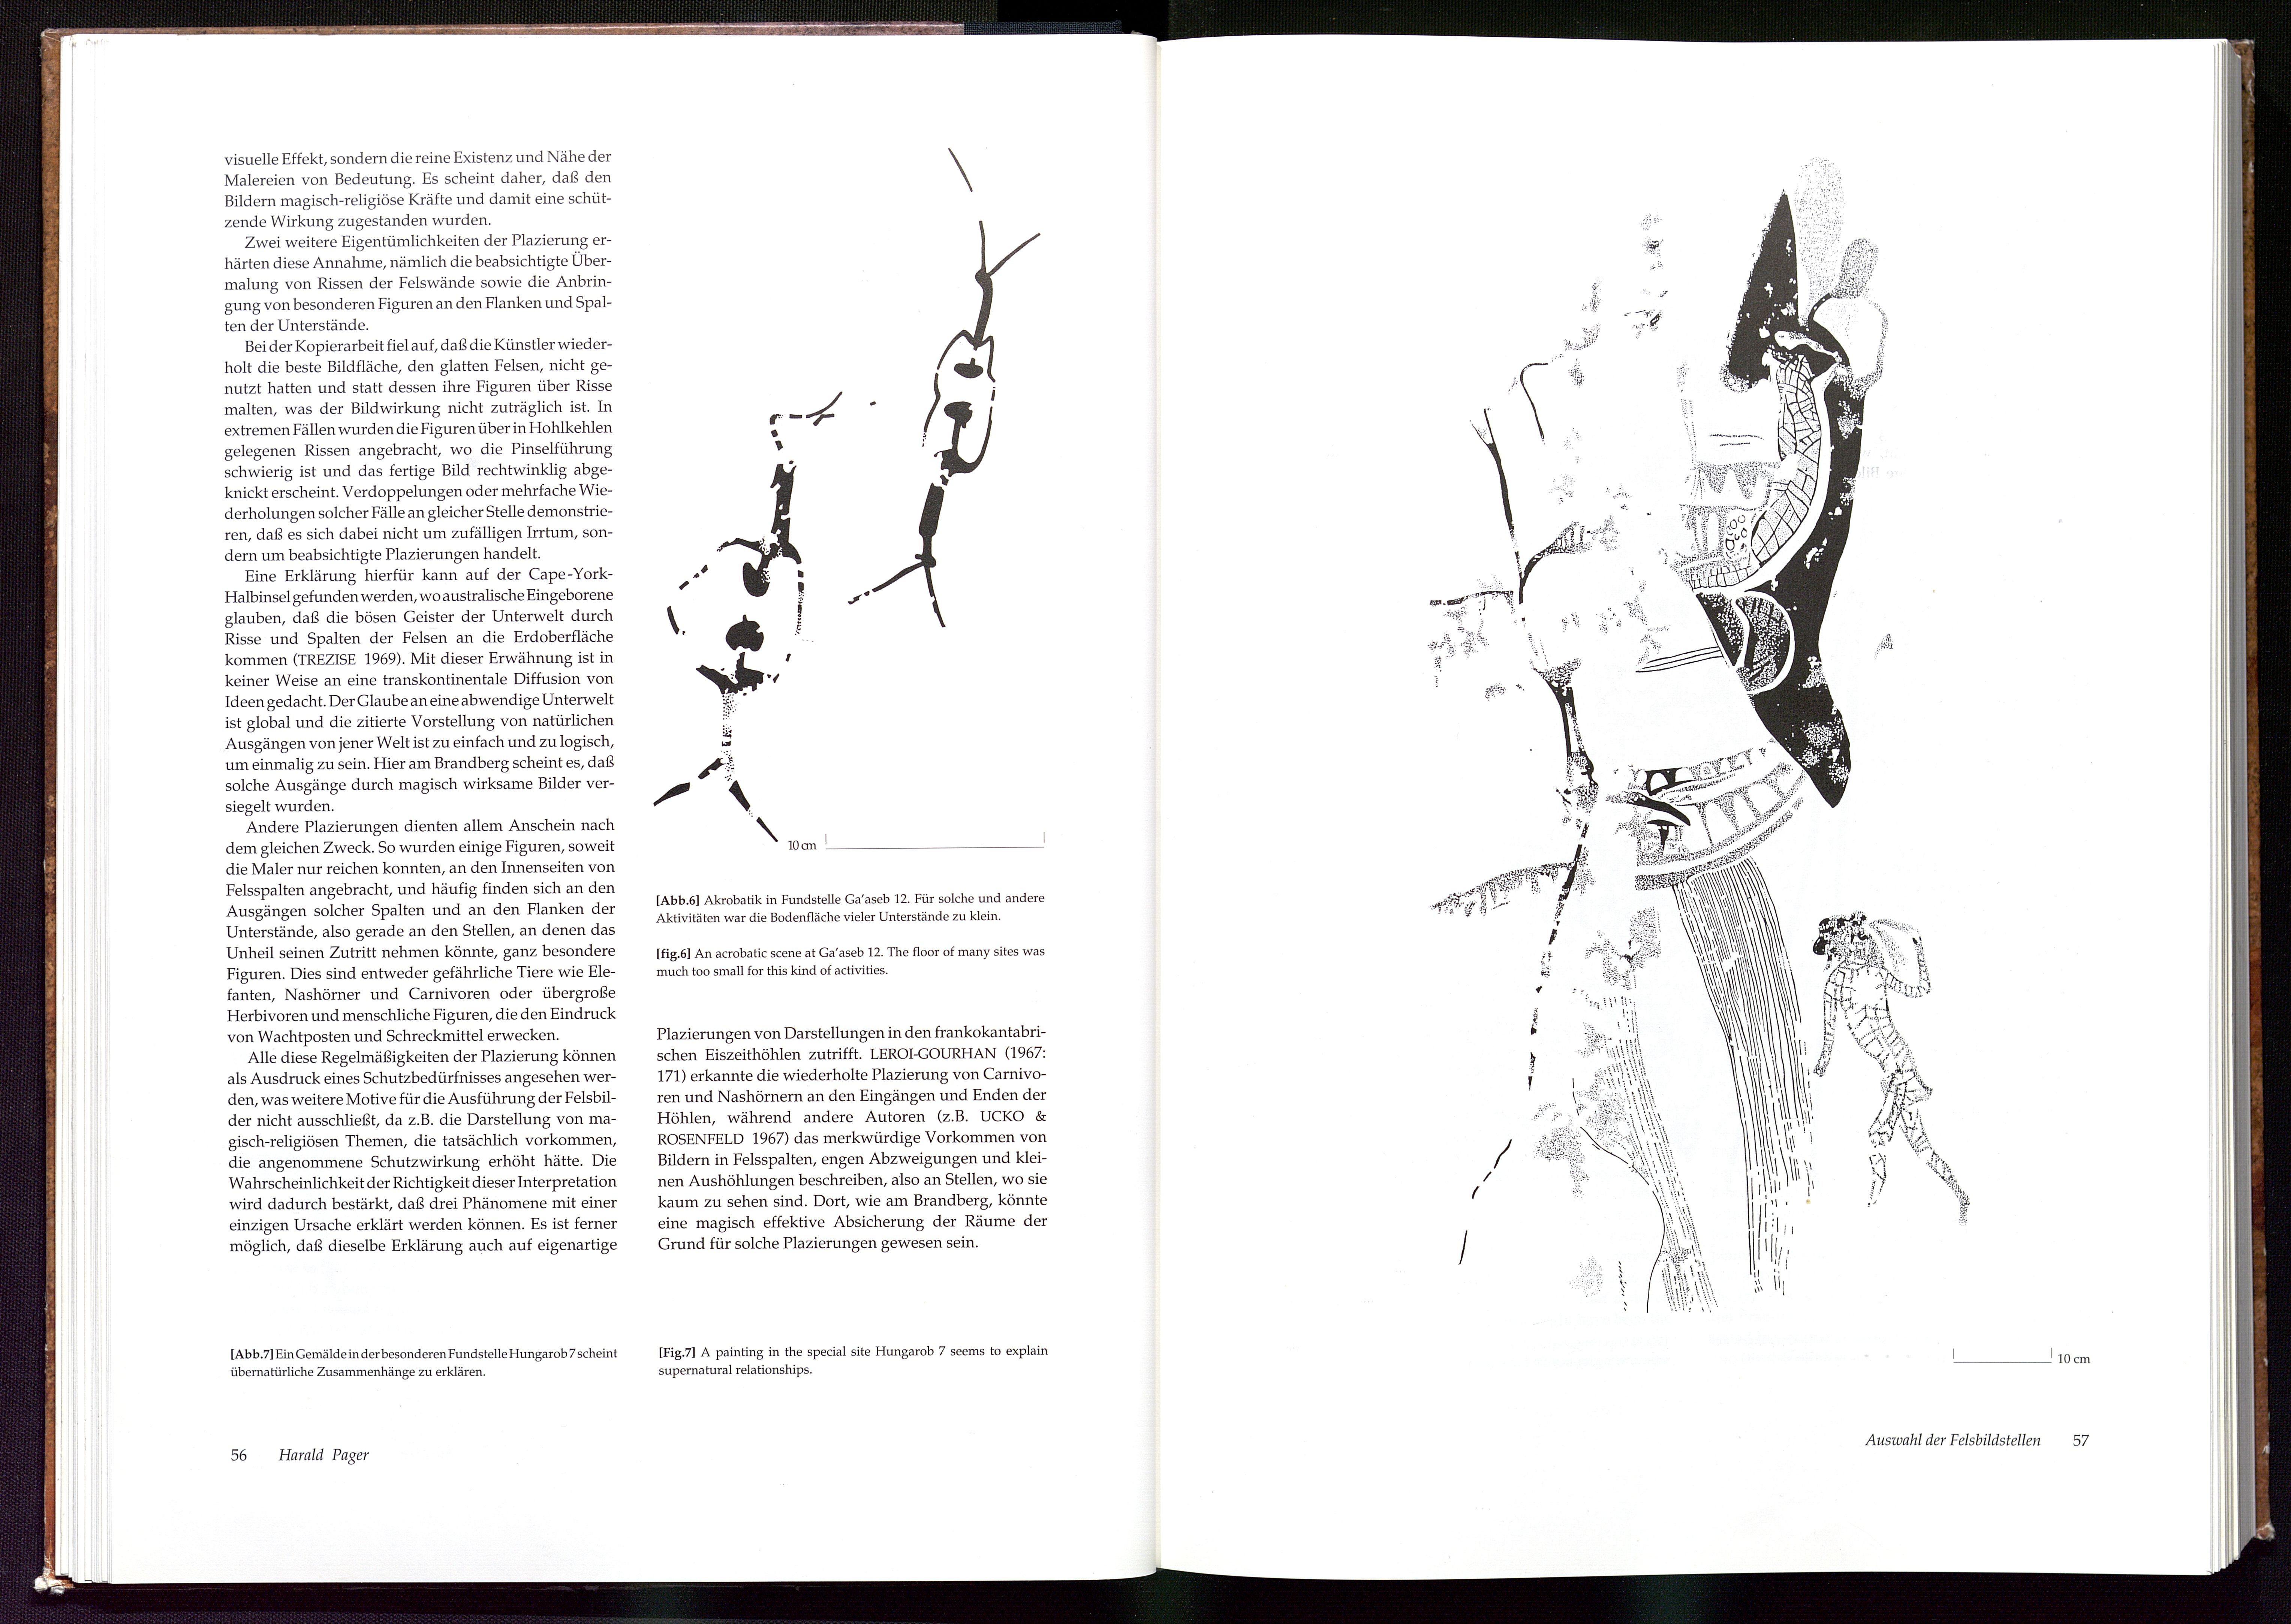human: (637, 608, 814, 861), (662, 381, 857, 601), (837, 386, 1002, 633), (927, 136, 1047, 388)
